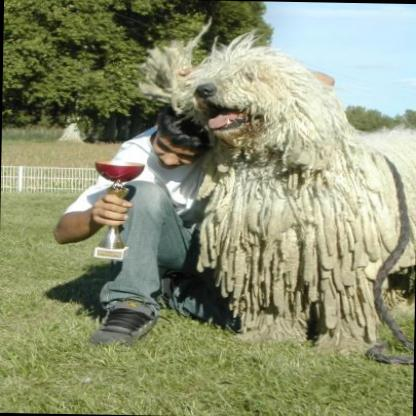komondor: (128, 13, 416, 352)
